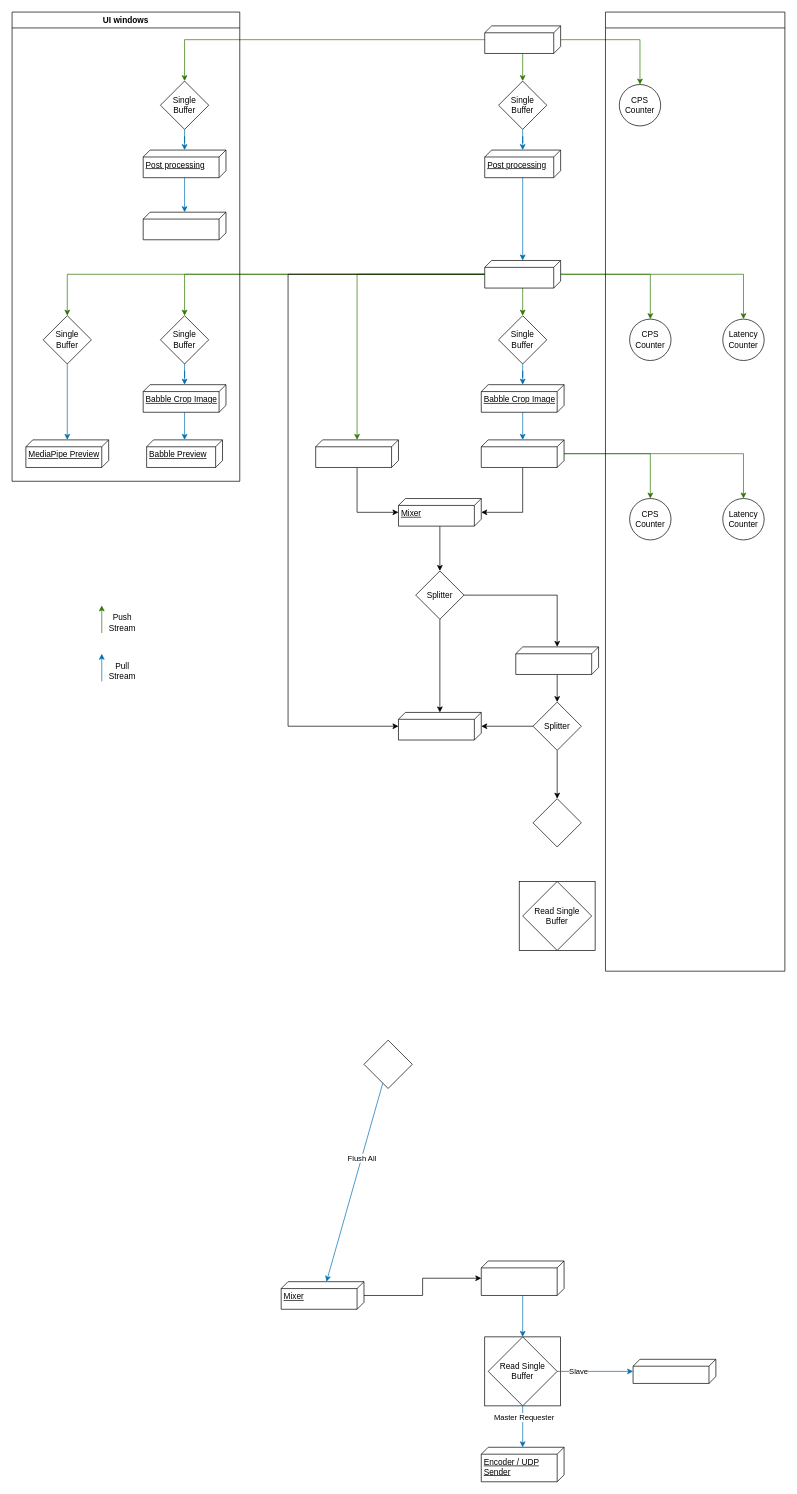
Some shapes in this 797 by 1494 pixel diagram are drawn without their labels. The shapes that lost their labels are listed below. From the top down, each one's centre as x and y in pixels, then its label:
(x=522, y=39): Camera Stream
(x=184, y=225): Camera Preview
(x=522, y=274): MediaPipe
(x=356, y=453): To BlendShape
(x=522, y=453): Babble
(x=695, y=491): Main UI
(x=557, y=660): One Euro Fil ter
(x=439, y=726): Auto Calibration
(x=556, y=822): Update Buffer 1 Second
(x=387, y=1063): Buffer Limit 16
(x=522, y=1277): Post processing / Calibration
(x=674, y=1371): UI Thread
